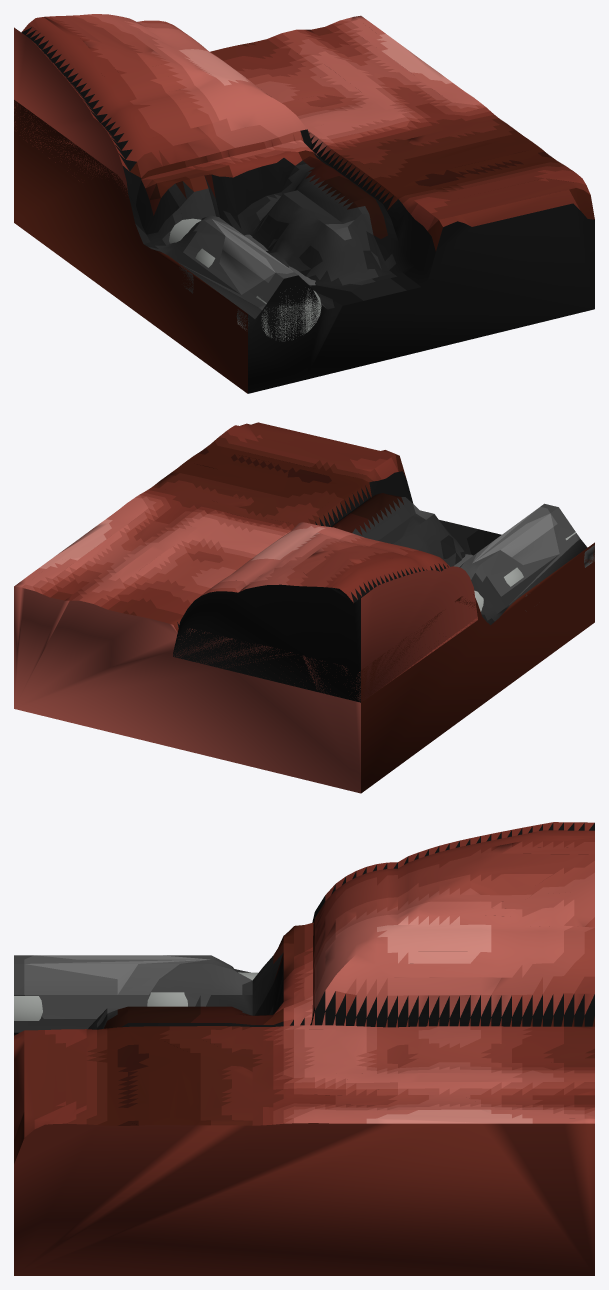
File: savara_boss_197.glb
The picture shows the model from 3 angles, top to bottom: view 1: azimuth 30°, elevation 25°; view 2: azimuth 150°, elevation 25°; view 3: azimuth 270°, elevation 25°; orthographic projection. The views are drawn at different scales.
Visible parts, largest first — view 1: savara_boss_197_hull; view 2: savara_boss_197_hull; view 3: savara_boss_197_hull.
Boxes of the visible parts, x1,y1,x2,y2 form: savara_boss_197_hull: (14,14,594,393); savara_boss_197_hull: (14,422,594,793); savara_boss_197_hull: (14,822,594,1275).
Bounding box in the file's own units: 24 × 13.2 × 28.
